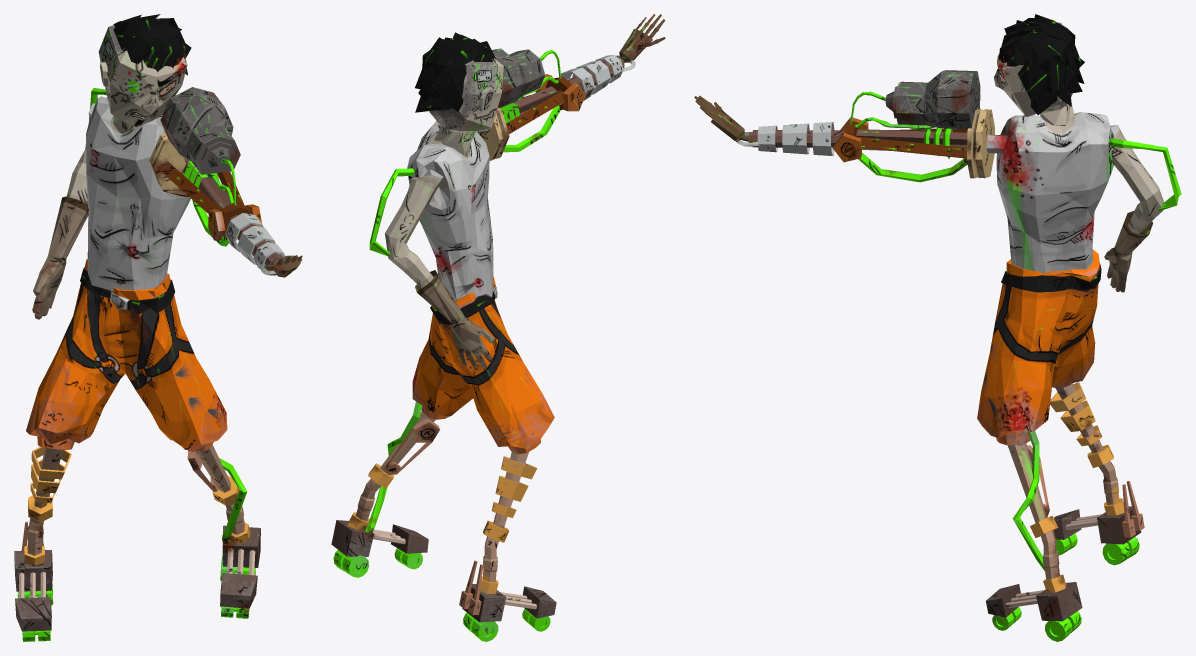
Rendered from CyborgFINALAnimation_000029.obj.
The picture shows the model from 3 angles, left to right: view 1: azimuth 30°, elevation 25°; view 2: azimuth 150°, elevation 25°; view 3: azimuth 270°, elevation 25°; orthographic projection. The views are drawn at different scales.
Parts seen in each view (by area): view 1: CyborgMesh_Cube.002; view 2: CyborgMesh_Cube.002; view 3: CyborgMesh_Cube.002.
Boxes of the visible parts, bbox=[...] form: CyborgMesh_Cube.002: bbox=[14, 14, 302, 641]; CyborgMesh_Cube.002: bbox=[331, 14, 665, 641]; CyborgMesh_Cube.002: bbox=[694, 14, 1181, 641].
Size of the model in its own units: 3.93 by 9.45 by 7.26.
